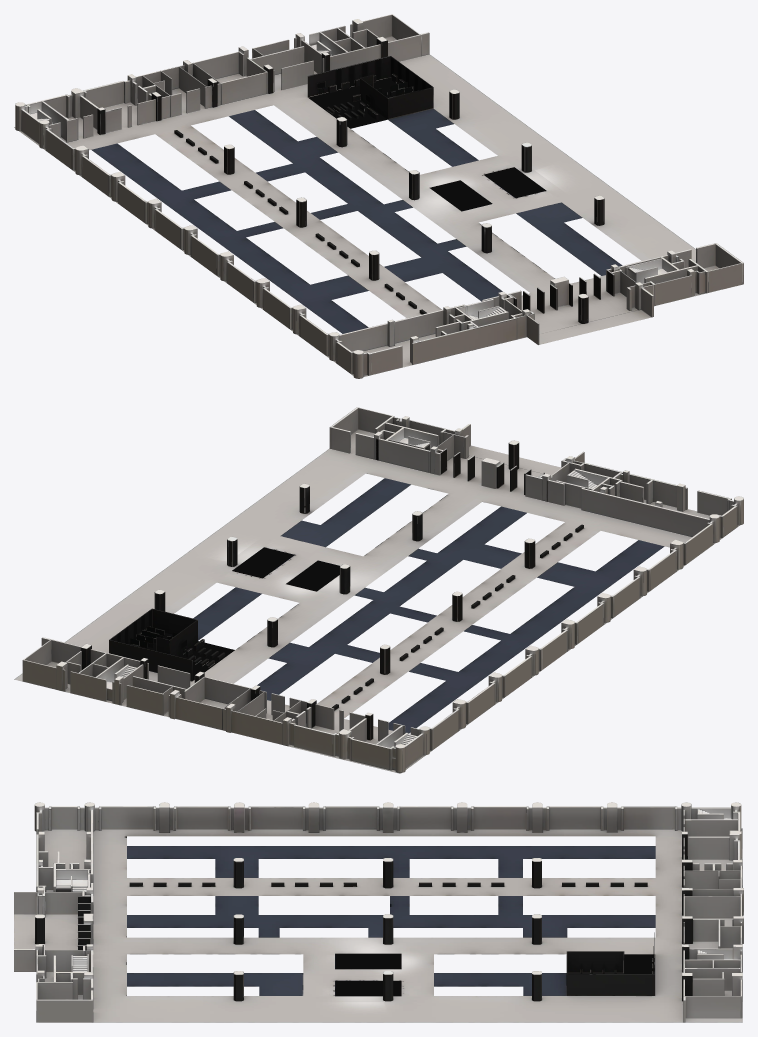
The model's file is Kiosk_Building.glb.
The picture shows the model from 3 angles, top to bottom: view 1: azimuth 30°, elevation 25°; view 2: azimuth 150°, elevation 25°; view 3: azimuth 270°, elevation 25°; orthographic projection. The views are drawn at different scales.
Visible parts, largest first — view 1: Carpet.004; view 2: Carpet.004; view 3: Carpet.004.
Boxes of the visible parts, bbox=[...] form: Carpet.004: bbox=[14, 14, 743, 378]; Carpet.004: bbox=[14, 407, 743, 773]; Carpet.004: bbox=[14, 802, 743, 1022].
Bounding box in the file's own units: 57.26 × 3.78 × 90.68.
1 material, 1 textured.
